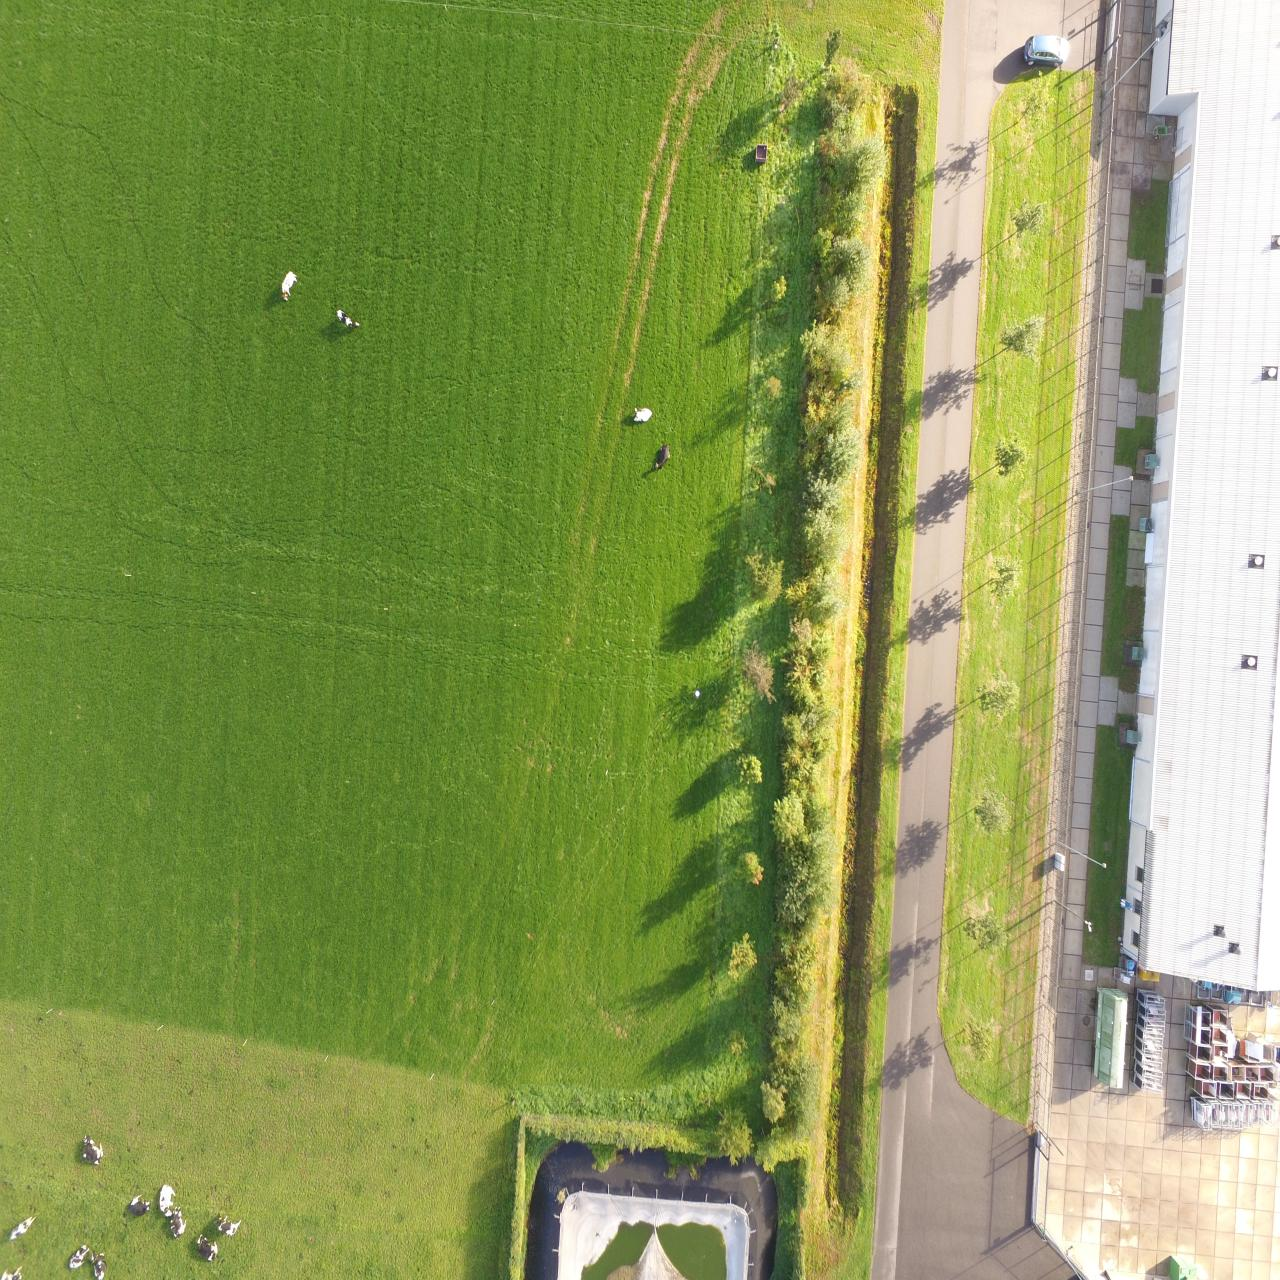cow: (73, 1131, 105, 1170), (6, 1208, 34, 1242), (191, 1232, 219, 1264), (64, 1241, 94, 1271), (279, 268, 299, 304), (648, 438, 672, 468), (213, 1214, 244, 1237), (123, 1196, 154, 1217), (166, 1204, 185, 1238), (333, 308, 360, 332), (631, 404, 653, 425), (91, 1254, 110, 1279), (159, 1185, 173, 1217)
